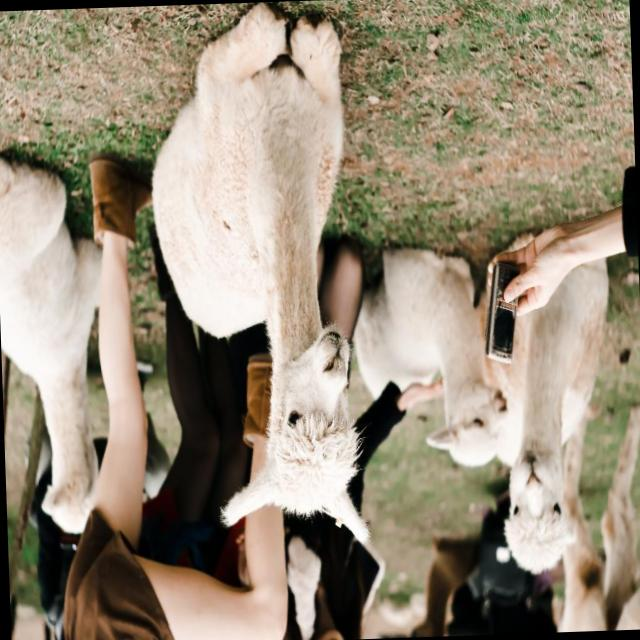alpaca: (144, 1, 370, 548), (348, 248, 508, 470), (489, 360, 606, 572)
